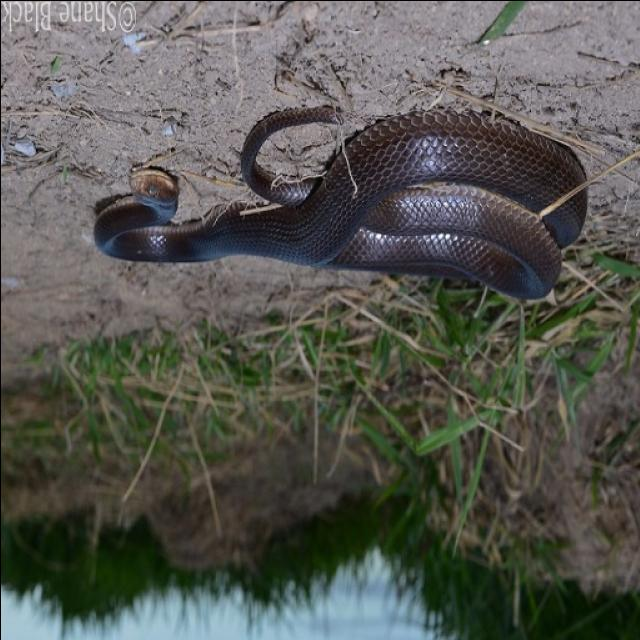snake: (60, 101, 597, 324)
